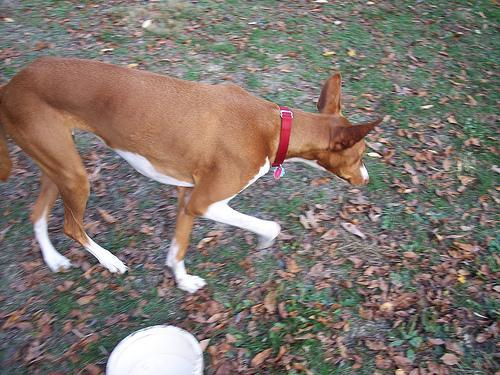Ibizan_hound: (1, 57, 384, 292)
